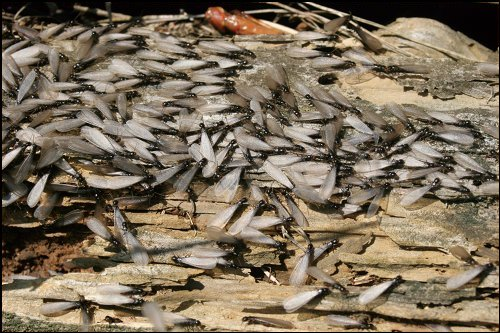flying termite: (121, 221, 154, 275), (358, 271, 406, 308), (346, 181, 395, 216), (443, 263, 494, 296), (205, 194, 247, 229), (82, 216, 119, 255), (216, 35, 261, 64), (312, 265, 349, 299), (167, 252, 219, 276), (408, 174, 441, 210), (198, 122, 218, 179), (283, 286, 328, 311), (291, 242, 314, 289), (328, 86, 362, 115), (431, 106, 471, 128), (290, 27, 340, 44), (312, 239, 343, 265), (156, 41, 199, 58), (310, 57, 355, 71)
